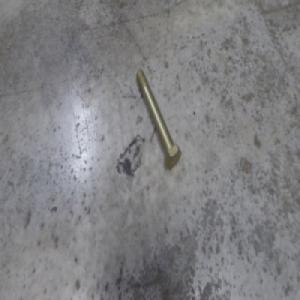Bolt: (135, 67, 180, 167)
